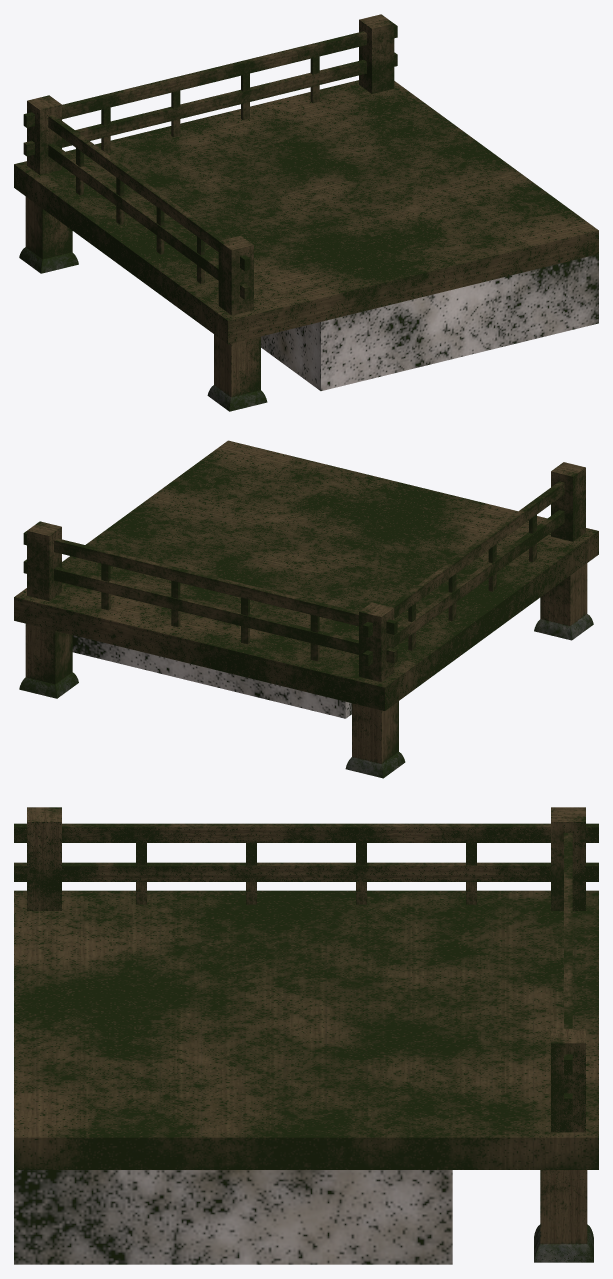
File: shrine_floor_outside_corner_01.fbx
The picture shows the model from 3 angles, top to bottom: view 1: azimuth 30°, elevation 25°; view 2: azimuth 150°, elevation 25°; view 3: azimuth 270°, elevation 25°; orthographic projection. The views are drawn at different scales.
Visible parts, largest first — view 1: shrine_floor_outside_corner_01; view 2: shrine_floor_outside_corner_01; view 3: shrine_floor_outside_corner_01.
Part boxes in pixels (left/top/right/bottom): shrine_floor_outside_corner_01: left=14, top=14, right=598, bottom=411; shrine_floor_outside_corner_01: left=14, top=440, right=598, bottom=778; shrine_floor_outside_corner_01: left=14, top=807, right=598, bottom=1264.
Size of the model in its own units: 330 by 134 by 330.
Materials: 1 (1 with a texture image).
